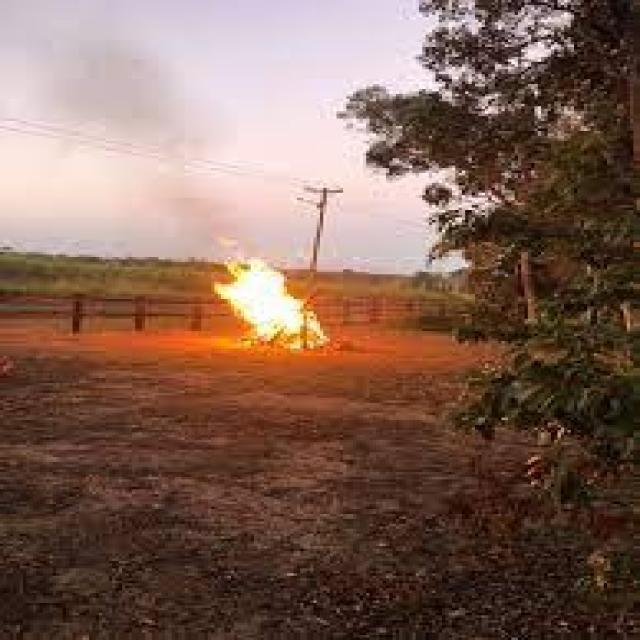Fire: (214, 236, 332, 354)
